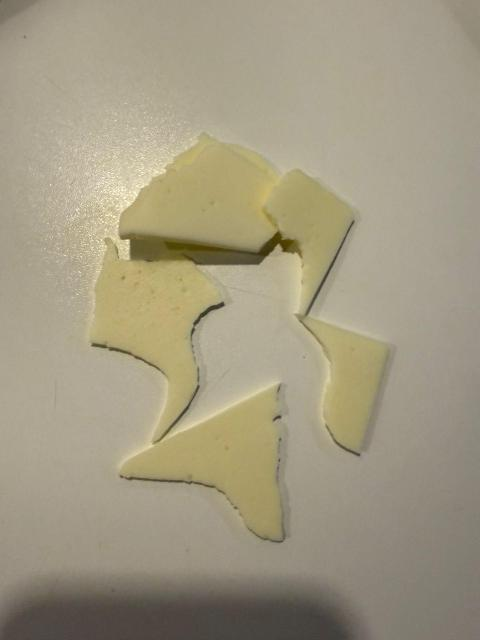Organik: (101, 376, 291, 541), (88, 231, 224, 427), (109, 136, 285, 248), (293, 308, 401, 452), (256, 163, 359, 309)
